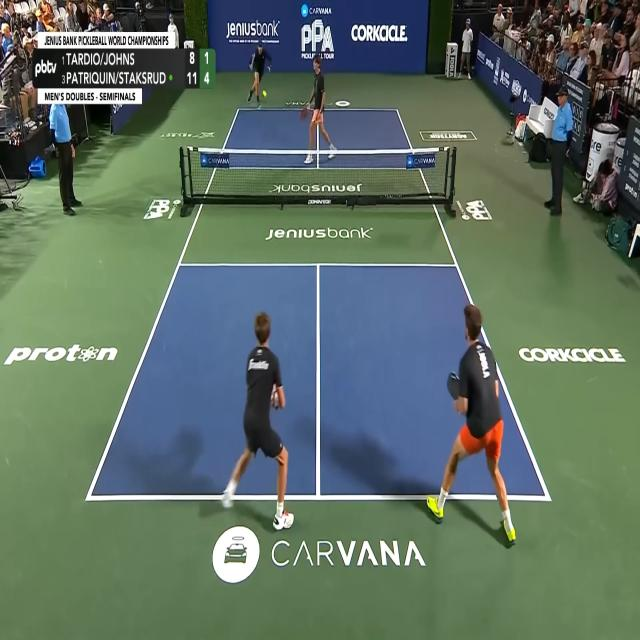ball: (262, 90, 267, 98)
